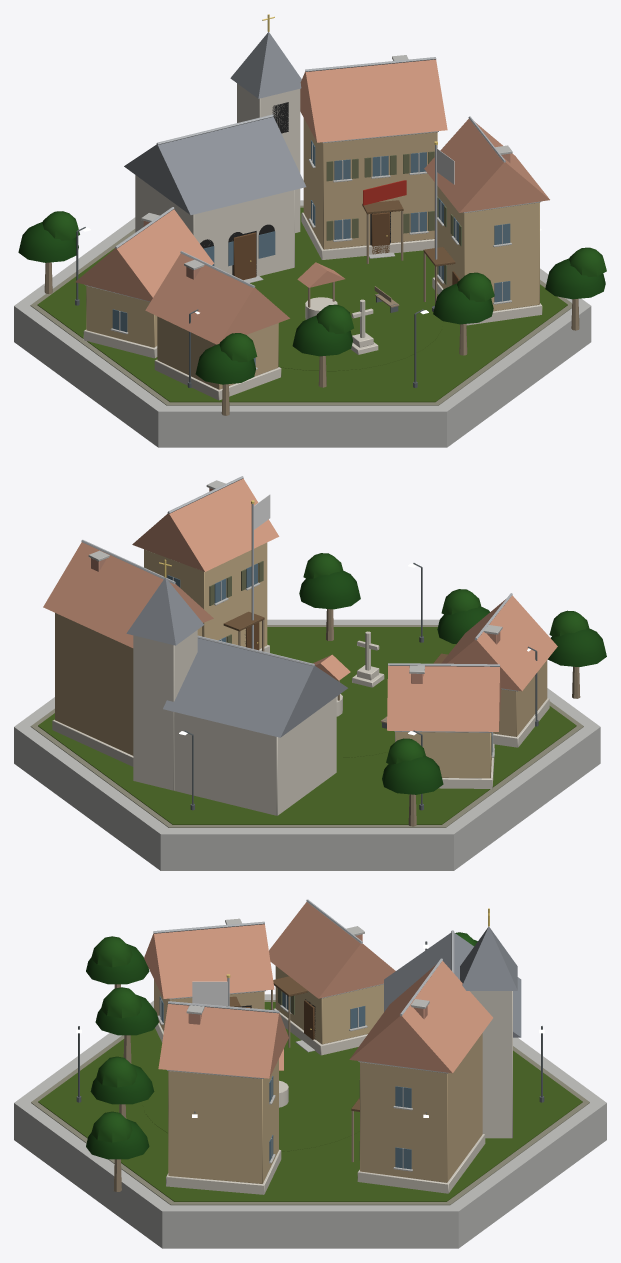
File: villageCenter.glb
The picture shows the model from 3 angles, top to bottom: view 1: azimuth 30°, elevation 25°; view 2: azimuth 150°, elevation 25°; view 3: azimuth 270°, elevation 25°; orthographic projection. The views are drawn at different scales.
Visible parts, largest first — view 1: wall_concrete, roof_tile, turf, plaster, stone, roof_slate, leaf, wood, glass, pavers, metal, dark (+2 smaller); view 2: wall_concrete, roof_tile, turf, stone, plaster, roof_slate, leaf, pavers, wood, metal, steel_dark, glass; view 3: wall_concrete, roof_tile, plaster, turf, leaf, stone, roof_slate, pavers, wood, glass, metal, banner.
Boxes of the visible parts, bbox=[...] form: wall_concrete: bbox=[14, 55, 591, 447]; roof_tile: bbox=[75, 59, 549, 344]; turf: bbox=[37, 207, 567, 402]; plaster: bbox=[86, 118, 539, 389]; stone: bbox=[83, 83, 542, 400]; roof_slate: bbox=[124, 32, 306, 215]; leaf: bbox=[18, 211, 606, 384]; wood: bbox=[44, 151, 579, 415]; glass: bbox=[112, 140, 510, 365]; pavers: bbox=[30, 205, 572, 405]; metal: bbox=[115, 57, 505, 287]; dark: bbox=[200, 102, 390, 275]; wall_concrete: bbox=[14, 480, 600, 870]; roof_tile: bbox=[43, 478, 557, 731]; turf: bbox=[38, 627, 576, 824]; stone: bbox=[52, 630, 549, 815]; plaster: bbox=[55, 542, 547, 778]; roof_slate: bbox=[126, 577, 347, 737]; leaf: bbox=[299, 553, 606, 794]; pavers: bbox=[30, 625, 583, 827]; wood: bbox=[209, 561, 580, 826]; metal: bbox=[81, 476, 512, 666]; steel_dark: bbox=[184, 563, 538, 810]; glass: bbox=[167, 563, 492, 755]; wall_concrete: bbox=[14, 918, 606, 1248]; roof_tile: bbox=[144, 902, 492, 1078]; plaster: bbox=[154, 966, 482, 1183]; turf: bbox=[38, 1002, 582, 1201]; leaf: bbox=[86, 932, 477, 1159]; stone: bbox=[155, 991, 512, 1194]; roof_slate: bbox=[384, 926, 521, 1037]; pavers: bbox=[31, 1000, 589, 1205]; wood: bbox=[113, 976, 359, 1191]; glass: bbox=[159, 992, 411, 1169]; metal: bbox=[153, 899, 454, 1016]; banner: bbox=[192, 981, 227, 1005].
Size of the model in its own units: 21.3 by 11.8 by 24.6.
